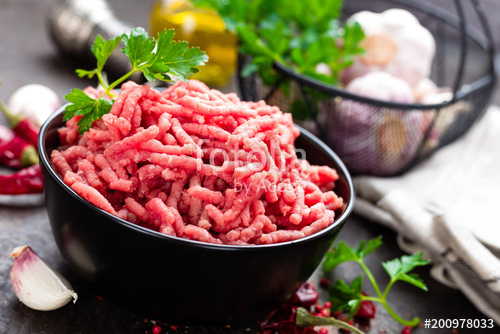ground_beef: (61, 72, 345, 258)
